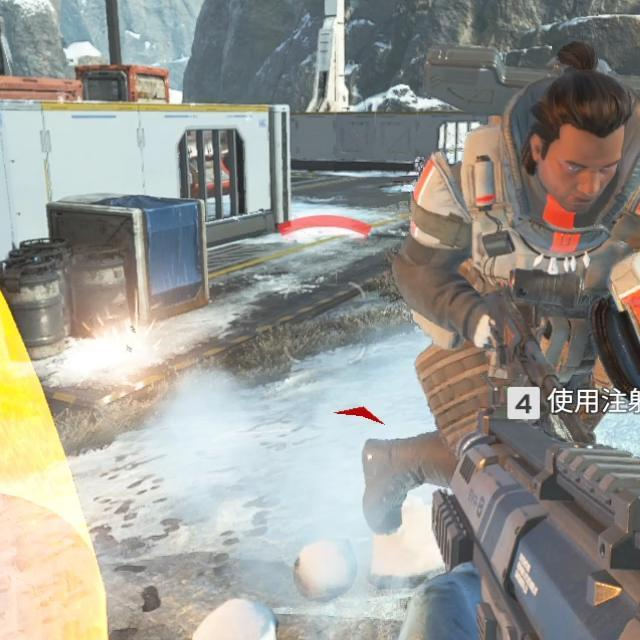avatar: (359, 35, 640, 539)
